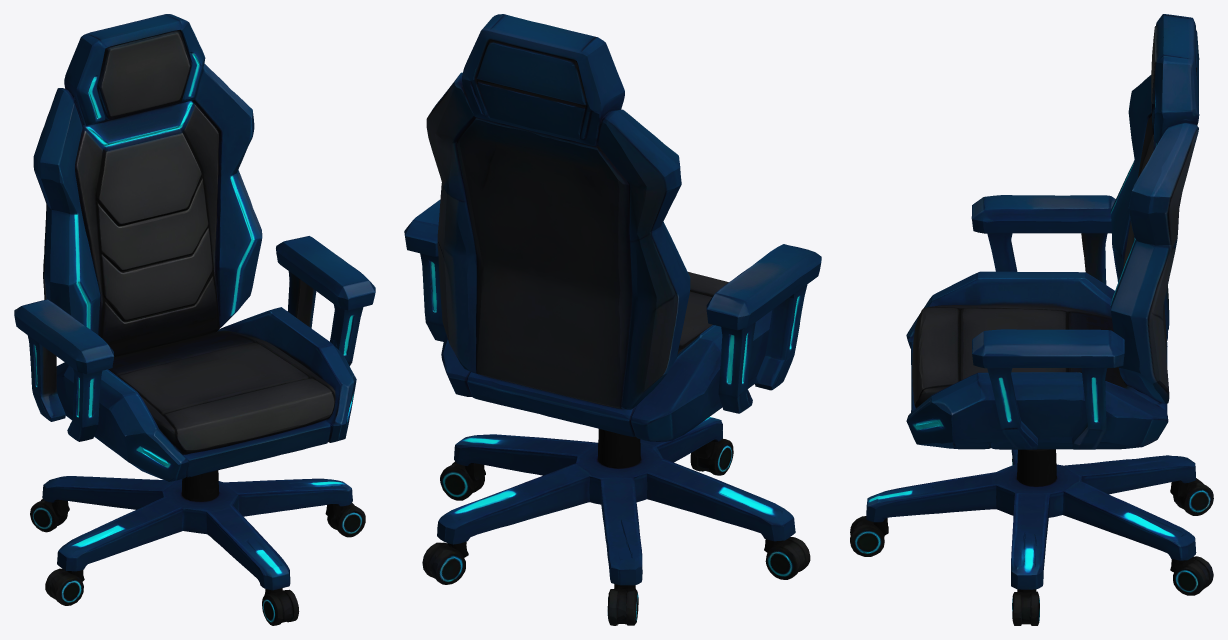
Rendered from kursi-gaming.fbx.
3 views of the same model, side by side, from view 1: azimuth 30°, elevation 25°; view 2: azimuth 150°, elevation 25°; view 3: azimuth 270°, elevation 25° (orthographic). The views are drawn at different scales.
Visible parts, largest first — view 1: Mesh.001; view 2: Mesh.001; view 3: Mesh.001.
Boxes of the visible parts, bbox=[...] form: Mesh.001: bbox=[14, 14, 375, 625]; Mesh.001: bbox=[404, 14, 821, 625]; Mesh.001: bbox=[850, 14, 1213, 625].
Size of the model in its own units: 175 by 264 by 168.
Materials: 1 (1 with a texture image).
